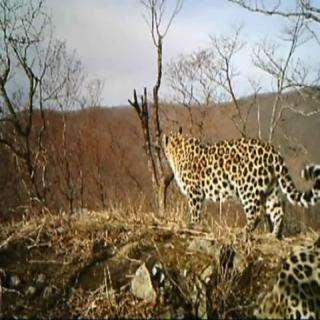Leopard: (148, 107, 320, 229)
